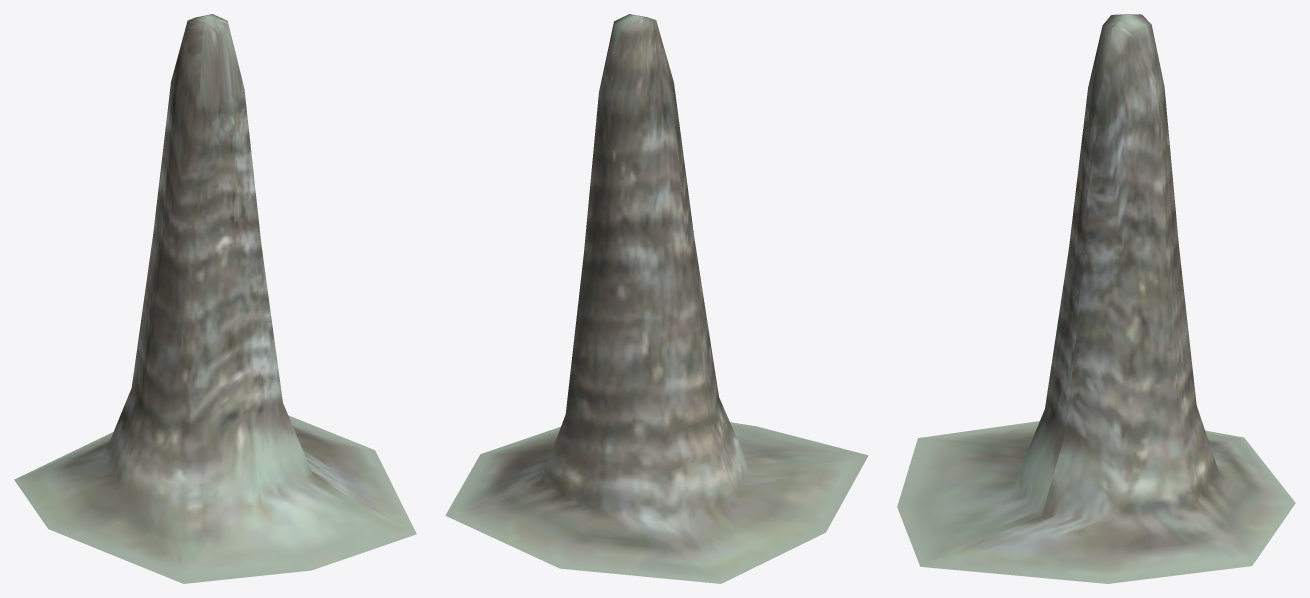
The model's file is TROLLHOLE02_PS-MAINSTALAG60.fbx.
3 renders of one model, left to right at view 1: azimuth 30°, elevation 25°; view 2: azimuth 150°, elevation 25°; view 3: azimuth 270°, elevation 25°, orthographic. The views are drawn at different scales.
Parts seen in each view (by area): view 1: TROLLHOLE02_PS-MAINSTALAG60; view 2: TROLLHOLE02_PS-MAINSTALAG60; view 3: TROLLHOLE02_PS-MAINSTALAG60.
Boxes of the visible parts, x1,y1,x2,y2 form: TROLLHOLE02_PS-MAINSTALAG60: [14, 14, 416, 583]; TROLLHOLE02_PS-MAINSTALAG60: [445, 14, 868, 583]; TROLLHOLE02_PS-MAINSTALAG60: [897, 14, 1295, 583].
Bounding box in the file's own units: 20091 × 27601 × 20095.
Materials: 1 (1 with a texture image).
